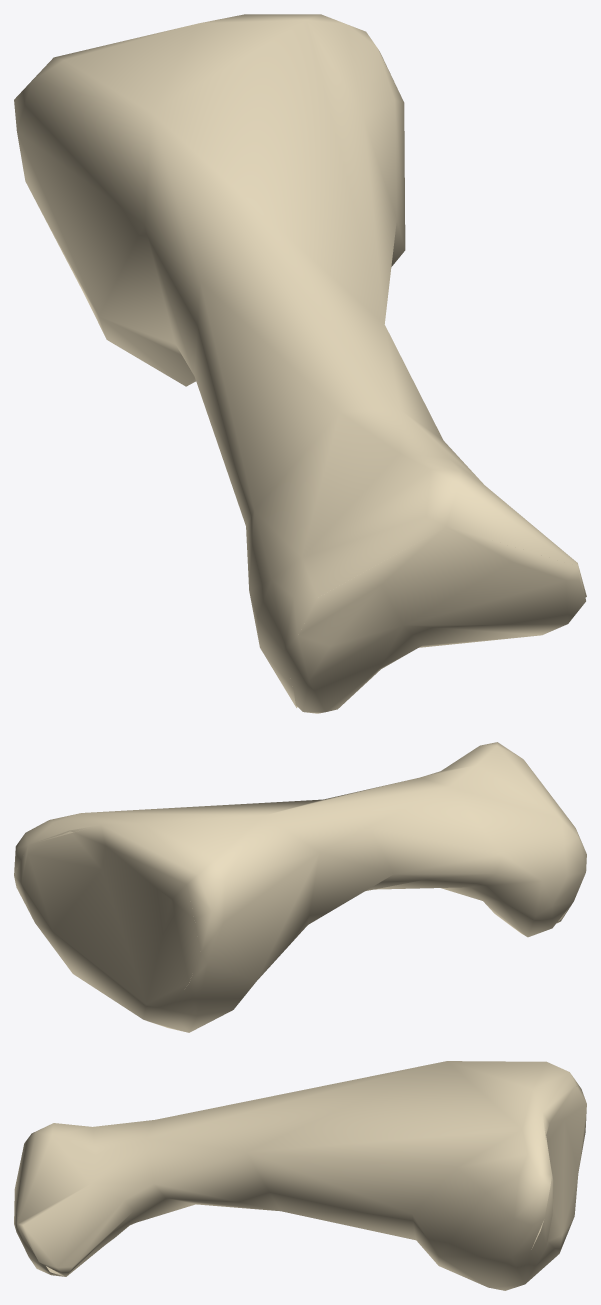
File: esqueleto-proximal-phalanx-of-second-finger-of-foot-r.glb
3 views of the same model, one above another, from view 1: azimuth 30°, elevation 25°; view 2: azimuth 150°, elevation 25°; view 3: azimuth 270°, elevation 25° (orthographic). The views are drawn at different scales.
Parts seen in each view (by area): view 1: Proximal phalanx of second finger of foot.r; view 2: Proximal phalanx of second finger of foot.r; view 3: Proximal phalanx of second finger of foot.r.
Part boxes in pixels (x1,y1,x2,y2): Proximal phalanx of second finger of foot.r: (14,14,586,713); Proximal phalanx of second finger of foot.r: (14,742,586,1032); Proximal phalanx of second finger of foot.r: (14,1061,586,1290).
Bounding box in the file's own units: 0.0178 × 0.013 × 0.0293.
